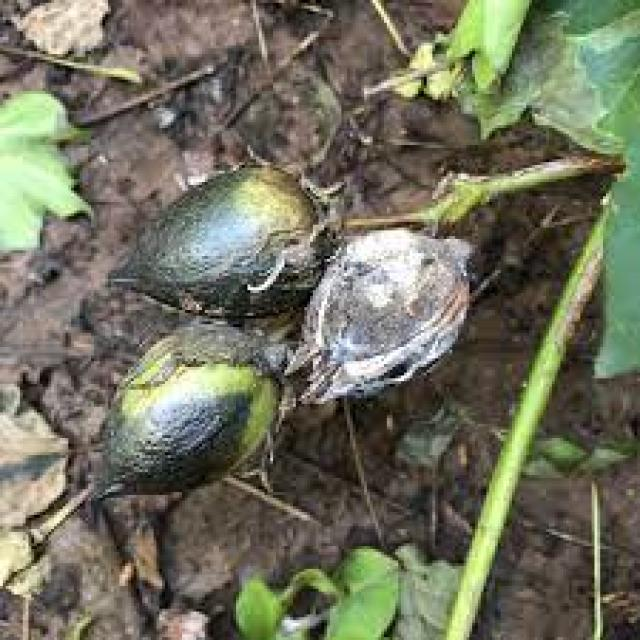Army worm: (77, 319, 299, 526)
Cotton Ball Rot: (116, 181, 566, 541), (273, 256, 318, 317)
